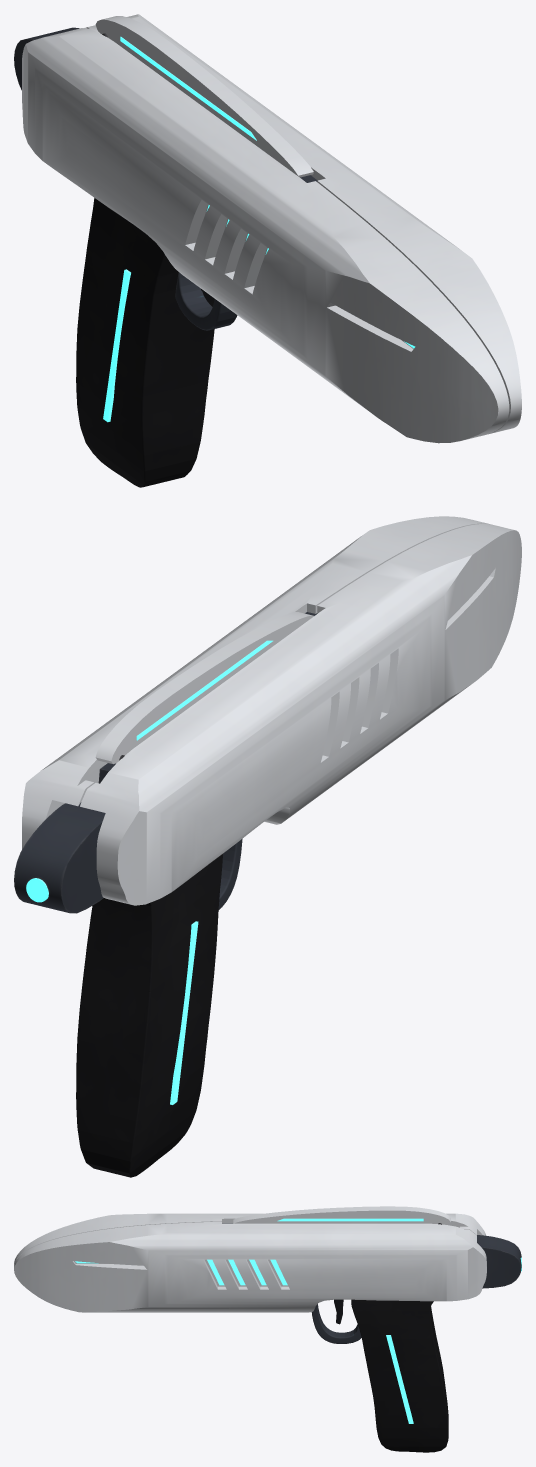
Rendered from ORBIS_parts.glb.
The picture shows the model from 3 angles, top to bottom: view 1: azimuth 30°, elevation 25°; view 2: azimuth 150°, elevation 25°; view 3: azimuth 270°, elevation 25°; orthographic projection. The views are drawn at different scales.
Visible parts, largest first — view 1: shell_R, grip, shell_L, crest, trigger_guard, grip_inlay_R, crest_glow; view 2: shell_R, grip, shell_L, tail, crest, grip_inlay_R, trigger_guard, crest_glow; view 3: shell_L, grip, shell_R, crest, tail, trigger_guard, shell_gills_L, crest_glow, grip_inlay_L.
Part boxes in pixels (x1,y1,x2,y2): shell_R: [22, 27, 509, 443]; grip: [76, 198, 214, 487]; shell_L: [86, 14, 521, 434]; crest: [95, 16, 313, 177]; trigger_guard: [175, 272, 237, 330]; grip_inlay_R: [103, 269, 130, 422]; crest_glow: [120, 36, 256, 140]; shell_R: [80, 524, 521, 905]; grip: [76, 854, 222, 1177]; shell_L: [22, 516, 489, 849]; tail: [14, 803, 105, 913]; crest: [95, 612, 313, 764]; grip_inlay_R: [170, 921, 198, 1104]; trigger_guard: [218, 839, 242, 909]; crest_glow: [136, 640, 272, 740]; shell_L: [14, 1221, 486, 1312]; grip: [351, 1299, 448, 1452]; shell_R: [14, 1213, 485, 1265]; crest: [233, 1206, 450, 1224]; tail: [477, 1235, 521, 1288]; trigger_guard: [311, 1304, 361, 1343]; shell_gills_L: [207, 1259, 287, 1285]; crest_glow: [277, 1218, 423, 1221]; grip_inlay_L: [386, 1335, 413, 1423].
Size of the model in its own units: 0.052 by 0.1628 by 0.3126.
1 material, 1 textured.
